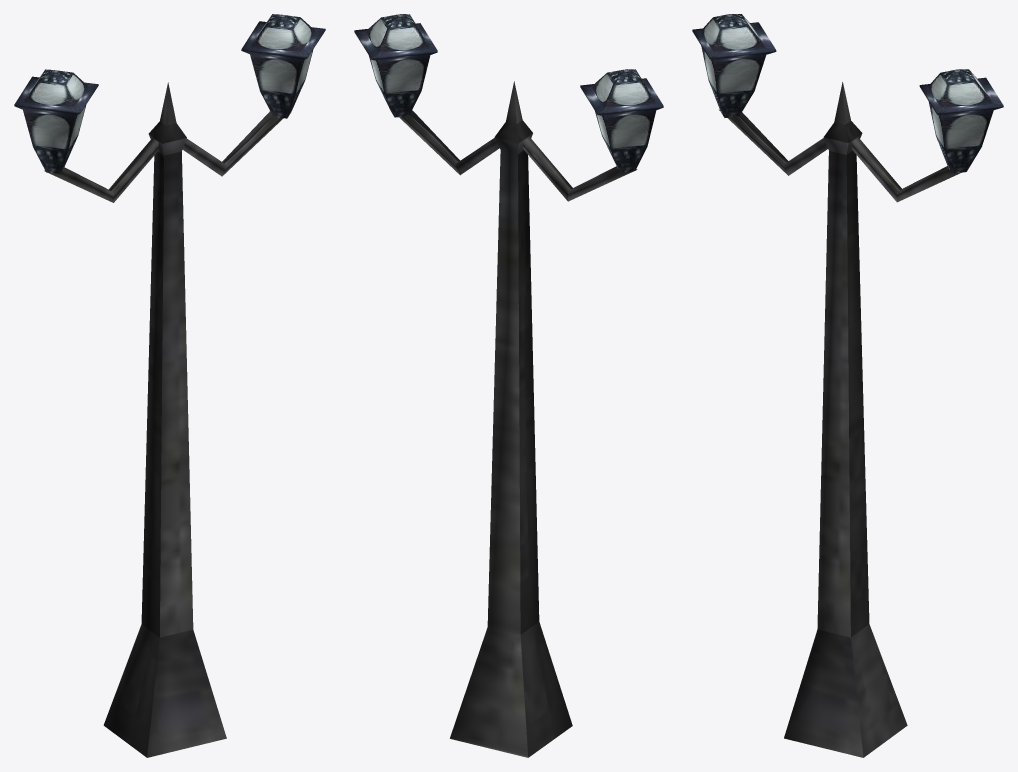
3 views of the same model, side by side, from view 1: azimuth 30°, elevation 25°; view 2: azimuth 150°, elevation 25°; view 3: azimuth 330°, elevation 25° (orthographic).
Visible parts, largest first — view 1: 5f76e083f99eaa1ee061fd51; view 2: 5f76e083f99eaa1ee061fd51; view 3: 5f76e083f99eaa1ee061fd51.
Boxes of the visible parts, bbox=[...] form: 5f76e083f99eaa1ee061fd51: bbox=[14, 14, 325, 757]; 5f76e083f99eaa1ee061fd51: bbox=[354, 14, 663, 757]; 5f76e083f99eaa1ee061fd51: bbox=[692, 14, 1003, 757].
Size of the model in its own units: 1.41 by 2.99 by 0.3796.
1 material, 1 textured.
